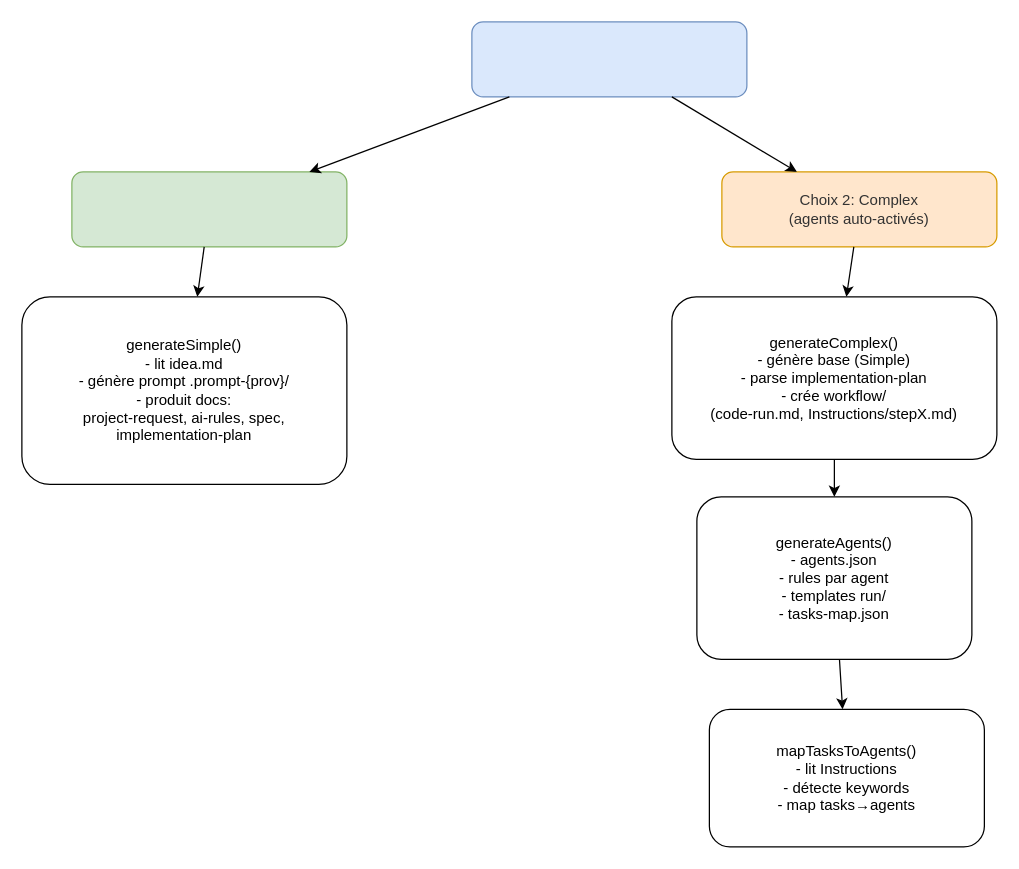
Some shapes in this 1019 by 869 pixel diagram are drawn without their labels. The centre of each missing label's shape, as x and y in pixels:
"Choix 1: Simple (pas d’agents)" belongs at (209,209).
"pcb generate (interactive)" belongs at (609,59).
